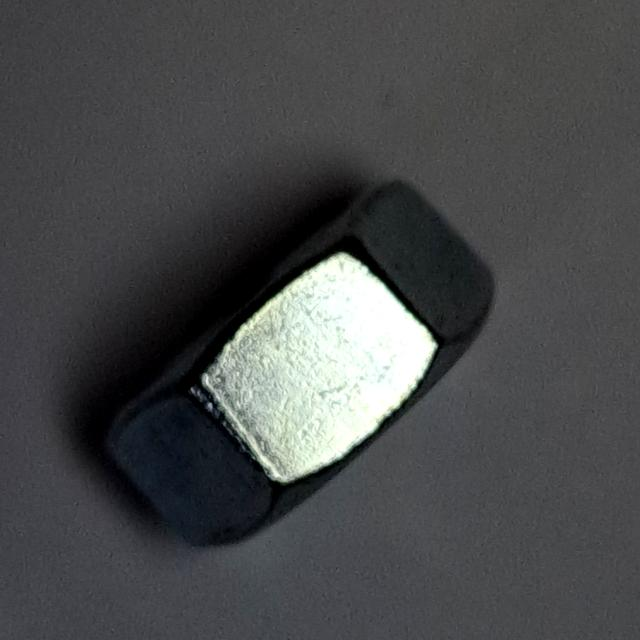Side_Excellent: (87, 168, 502, 564)
